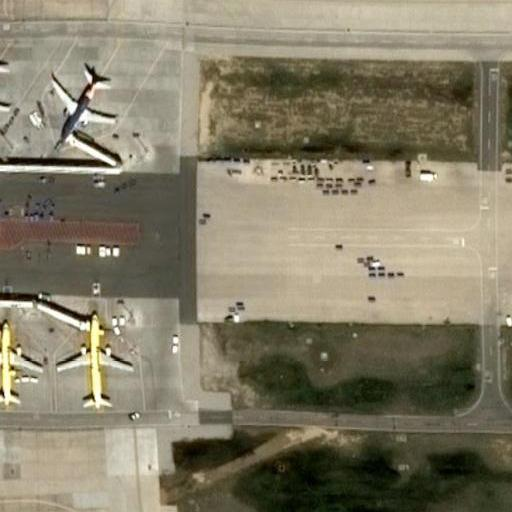Aircraft: (53, 313, 134, 410), (47, 62, 122, 148), (0, 321, 46, 402), (0, 52, 14, 138)
